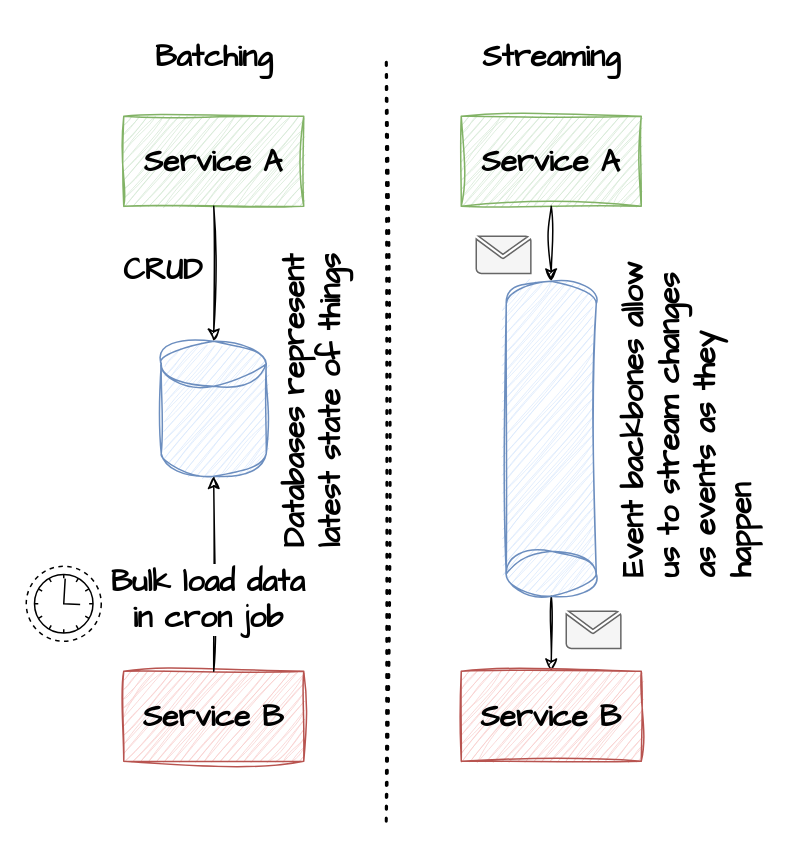
This 786x849 diagram has some shape labels left out. The centre of each missing label's shape, as x and y in pixels:
"DB" belongs at [213,408].
"Event backbone" belongs at [550,438].
